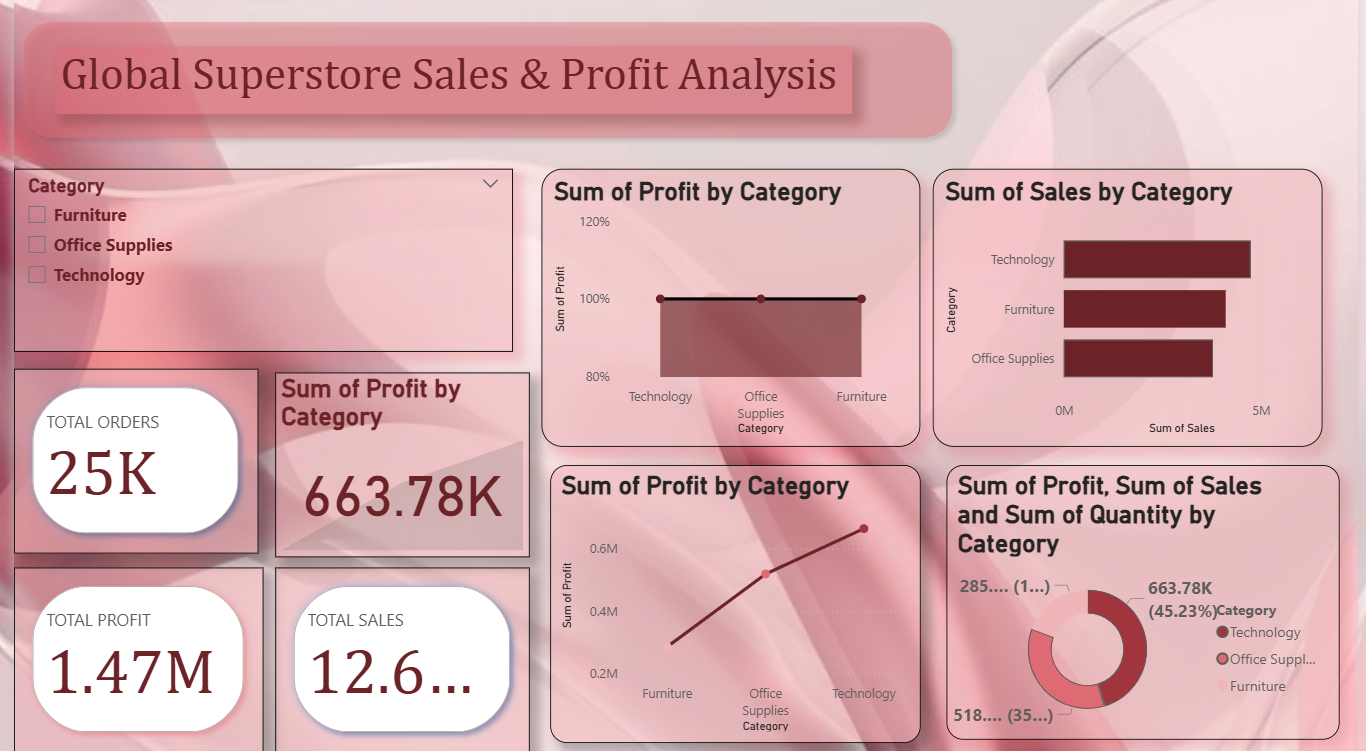

The dashboard page shown, as its layout file describes it:
{"tool":"powerbi","page":{"name":"Page 1","canvas":[1280,720],"ordinal":0},"visuals":[{"type":"clusteredBarChart","fields":{"Category":["Orders.Category"],"Y":["Sum(Orders.Sales)"]},"box":[875.1,165.9,370.9,265.1],"z":0},{"type":"donutChart","fields":{"Category":["Orders.Category"],"Y":["Sum(Orders.Profit)"]},"box":[888.1,447.3,374.1,261.9],"z":1000},{"type":"lineChart","fields":{"Y":["Sum(Orders.Profit)"],"Category":["Orders.Category"]},"box":[510.7,447.3,353,265.1],"z":2000},{"type":"slicer","fields":{"Values":["Orders.Category"]},"box":[0,165.9,475,174],"z":3000},{"type":"cardVisual","fields":{"Data":["Orders.TOTAL SALES"]},"box":[248.9,544.9,242.4,175.7],"z":4000},{"type":"kpi","fields":{"Indicator":["Sum(Orders.Profit)"],"TrendLine":["Orders.Category"]},"box":[248.9,359.5,242.4,175.7],"z":5000},{"type":"cardVisual","fields":{"Data":["Orders.TOTAL PROFIT"]},"box":[0,544.9,237.5,175.7],"z":6000},{"type":"shape","box":[0,16.3,902.7,128.5],"z":7000},{"type":"cardVisual","fields":{"Data":["Orders.TOTAL ORDERS"]},"box":[0,356.2,232.6,175.7],"z":8000},{"type":"hundredPercentStackedAreaChart","fields":{"Y":["Sum(Orders.Profit)"],"Category":["Orders.Category"]},"box":[502.6,165.9,361.1,265.1],"z":9000},{"type":"textbox","box":[39,48.8,759.6,65.1],"z":10000}]}

Visuals, with their boxes in screenshot pixels (x1, y1, x2, y2), scaled from the page's 1280x720 canvas onto the 1366x751 screenshot:
clusteredBarChart - Orders.Category x Sum(Orders.Sales): pyautogui.locateOnScreen(934, 173, 1330, 450)
donutChart - Orders.Category x Sum(Orders.Profit): pyautogui.locateOnScreen(948, 467, 1347, 740)
lineChart - Sum(Orders.Profit) x Orders.Category: pyautogui.locateOnScreen(545, 467, 922, 743)
slicer - Orders.Category: pyautogui.locateOnScreen(0, 173, 507, 355)
cardVisual - Orders.TOTAL SALES: pyautogui.locateOnScreen(266, 568, 524, 750)
kpi - Sum(Orders.Profit) x Orders.Category: pyautogui.locateOnScreen(266, 375, 524, 558)
cardVisual - Orders.TOTAL PROFIT: pyautogui.locateOnScreen(0, 568, 253, 750)
shape: pyautogui.locateOnScreen(0, 17, 963, 151)
cardVisual - Orders.TOTAL ORDERS: pyautogui.locateOnScreen(0, 372, 248, 555)
hundredPercentStackedAreaChart - Sum(Orders.Profit) x Orders.Category: pyautogui.locateOnScreen(536, 173, 922, 450)
textbox: pyautogui.locateOnScreen(42, 51, 852, 119)
